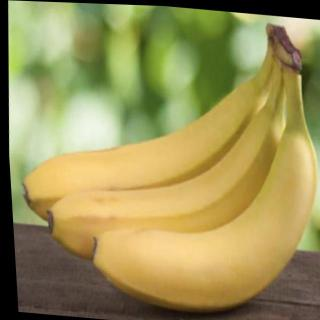banana: (8, 20, 288, 272), (32, 35, 302, 289), (76, 42, 320, 320)
